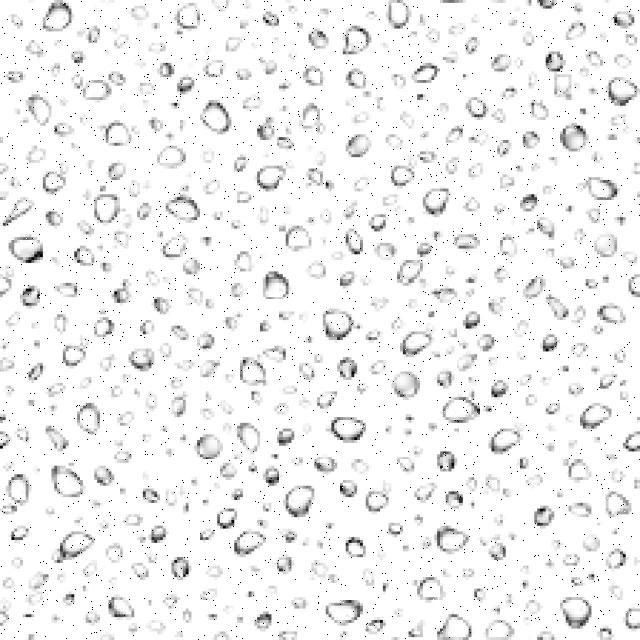raindrop: (51, 522, 98, 570), (316, 590, 372, 627), (47, 460, 92, 506), (552, 592, 595, 636), (159, 189, 204, 229), (438, 392, 482, 432), (280, 482, 320, 526), (477, 426, 528, 460), (324, 412, 371, 448), (568, 401, 616, 436), (416, 182, 456, 224), (250, 160, 290, 202), (71, 394, 106, 441), (276, 220, 317, 260), (316, 308, 358, 347), (195, 94, 232, 138), (394, 326, 436, 364), (556, 118, 594, 160), (0, 471, 35, 516), (230, 525, 270, 564), (431, 605, 475, 640), (334, 530, 376, 566), (604, 72, 640, 114), (258, 265, 294, 307), (233, 354, 272, 392), (39, 0, 75, 41), (18, 90, 53, 132), (433, 522, 473, 558), (228, 418, 264, 458), (338, 20, 374, 60), (8, 232, 48, 268), (191, 432, 230, 468), (152, 140, 190, 176), (387, 369, 426, 404), (584, 173, 624, 207), (588, 226, 624, 262), (98, 116, 132, 154), (89, 190, 122, 228), (76, 72, 114, 105), (602, 488, 634, 526), (389, 258, 427, 290), (100, 594, 140, 624), (382, 0, 414, 37), (386, 158, 418, 194), (358, 489, 396, 519), (407, 56, 442, 88), (173, 0, 204, 36), (124, 348, 161, 378), (594, 296, 628, 328), (338, 222, 367, 258), (460, 94, 490, 128), (530, 502, 560, 534), (343, 132, 373, 164), (428, 448, 461, 477), (450, 228, 482, 256), (362, 210, 392, 238), (542, 48, 568, 80), (310, 453, 341, 479), (210, 508, 240, 534), (429, 282, 458, 308), (487, 48, 512, 78), (536, 330, 560, 358), (514, 191, 538, 218)
